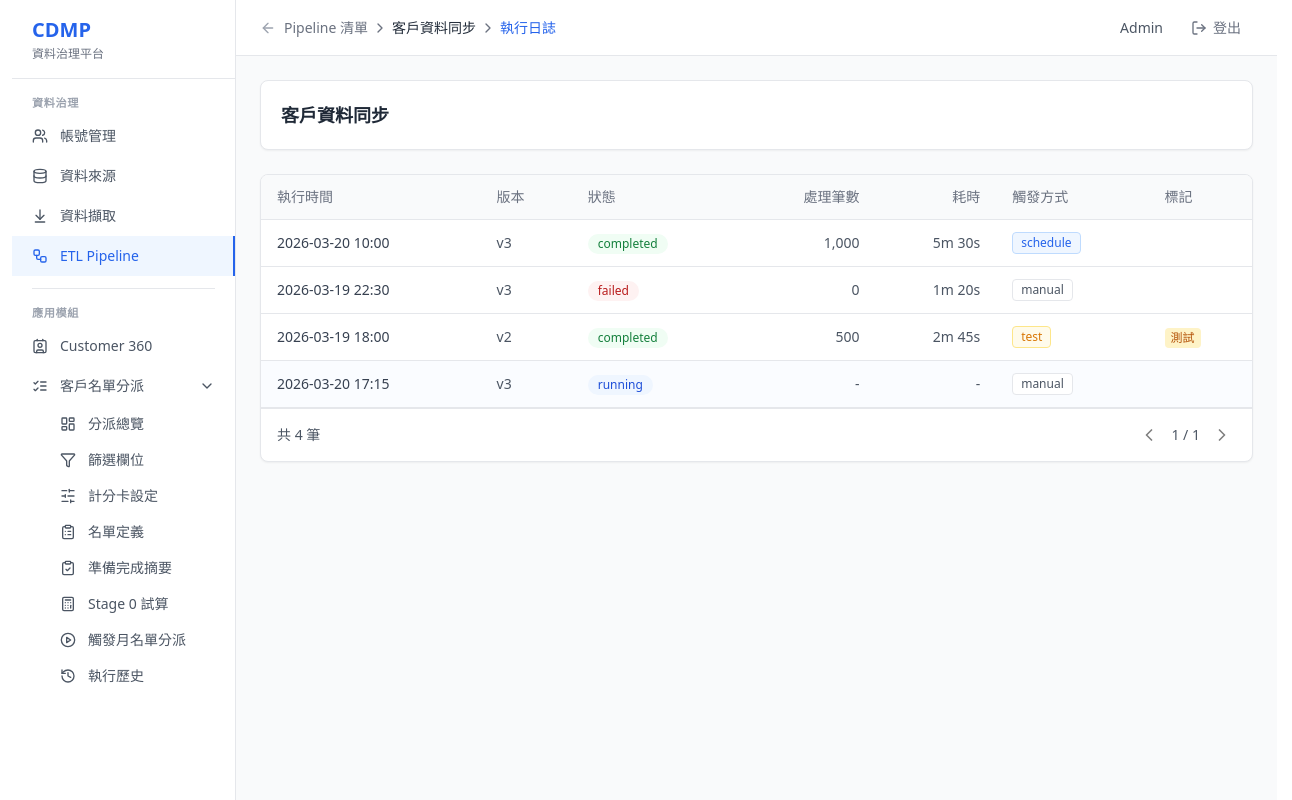
Scenario: F032: Pipeline Logs Page › should open drawer when clicking a log row
The width and height of the screenshot is (1292, 800).
Click the row with test id "log-row-log-1" at (756,243), box [261, 220, 1252, 266]
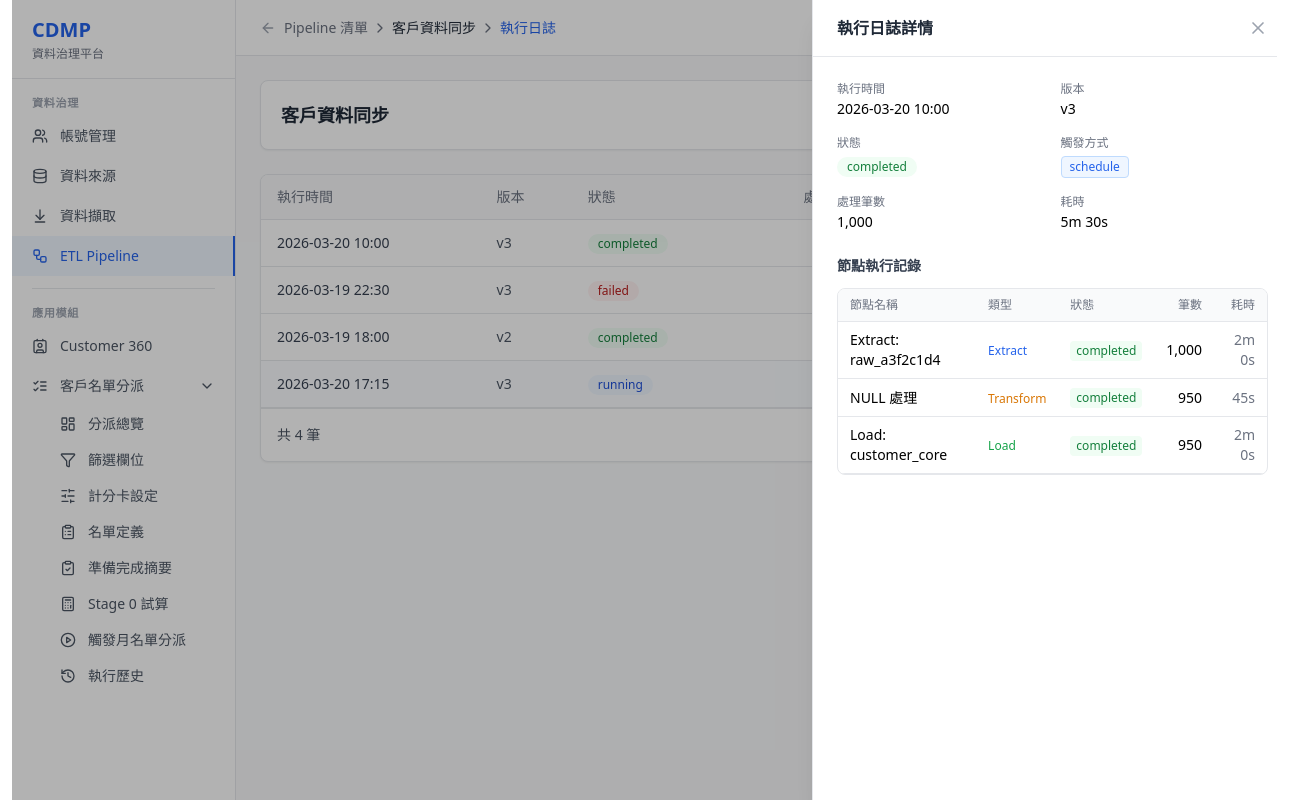
Expected: the heading "執行日誌詳情" is shown, [837, 16, 933, 40]
